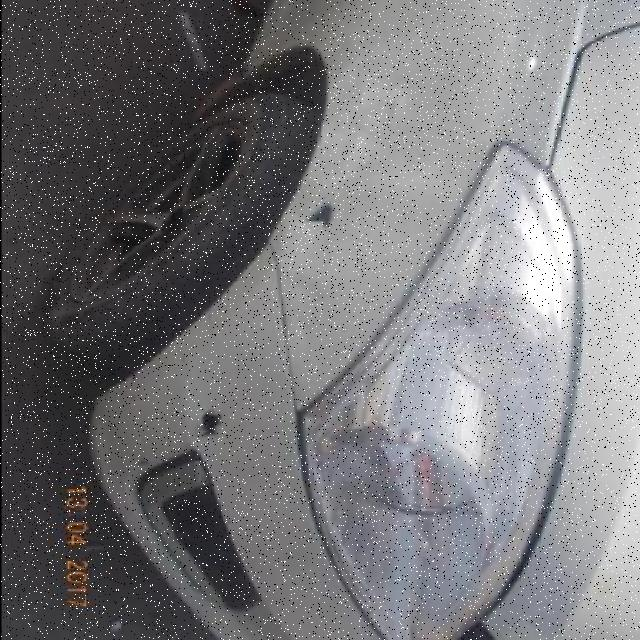damage: (192, 407, 226, 442), (299, 203, 336, 232)
